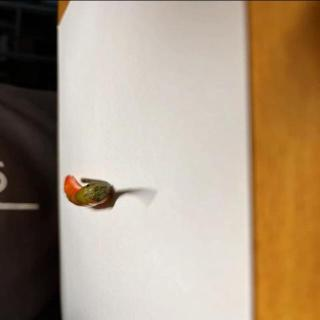Cabai Merah: (64, 175, 115, 207)
